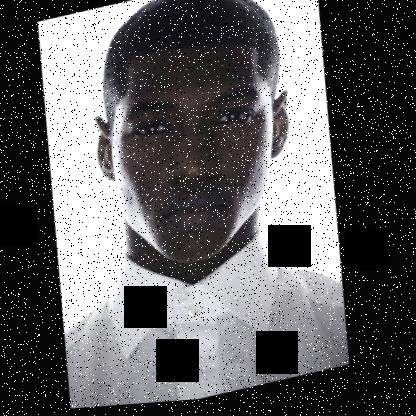Male: (73, 21, 314, 285)
